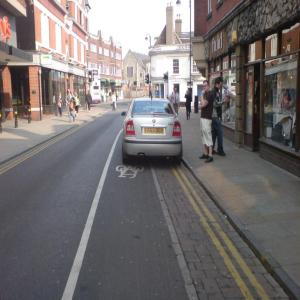Vehicle-registration-plate: (144, 128, 166, 135)
